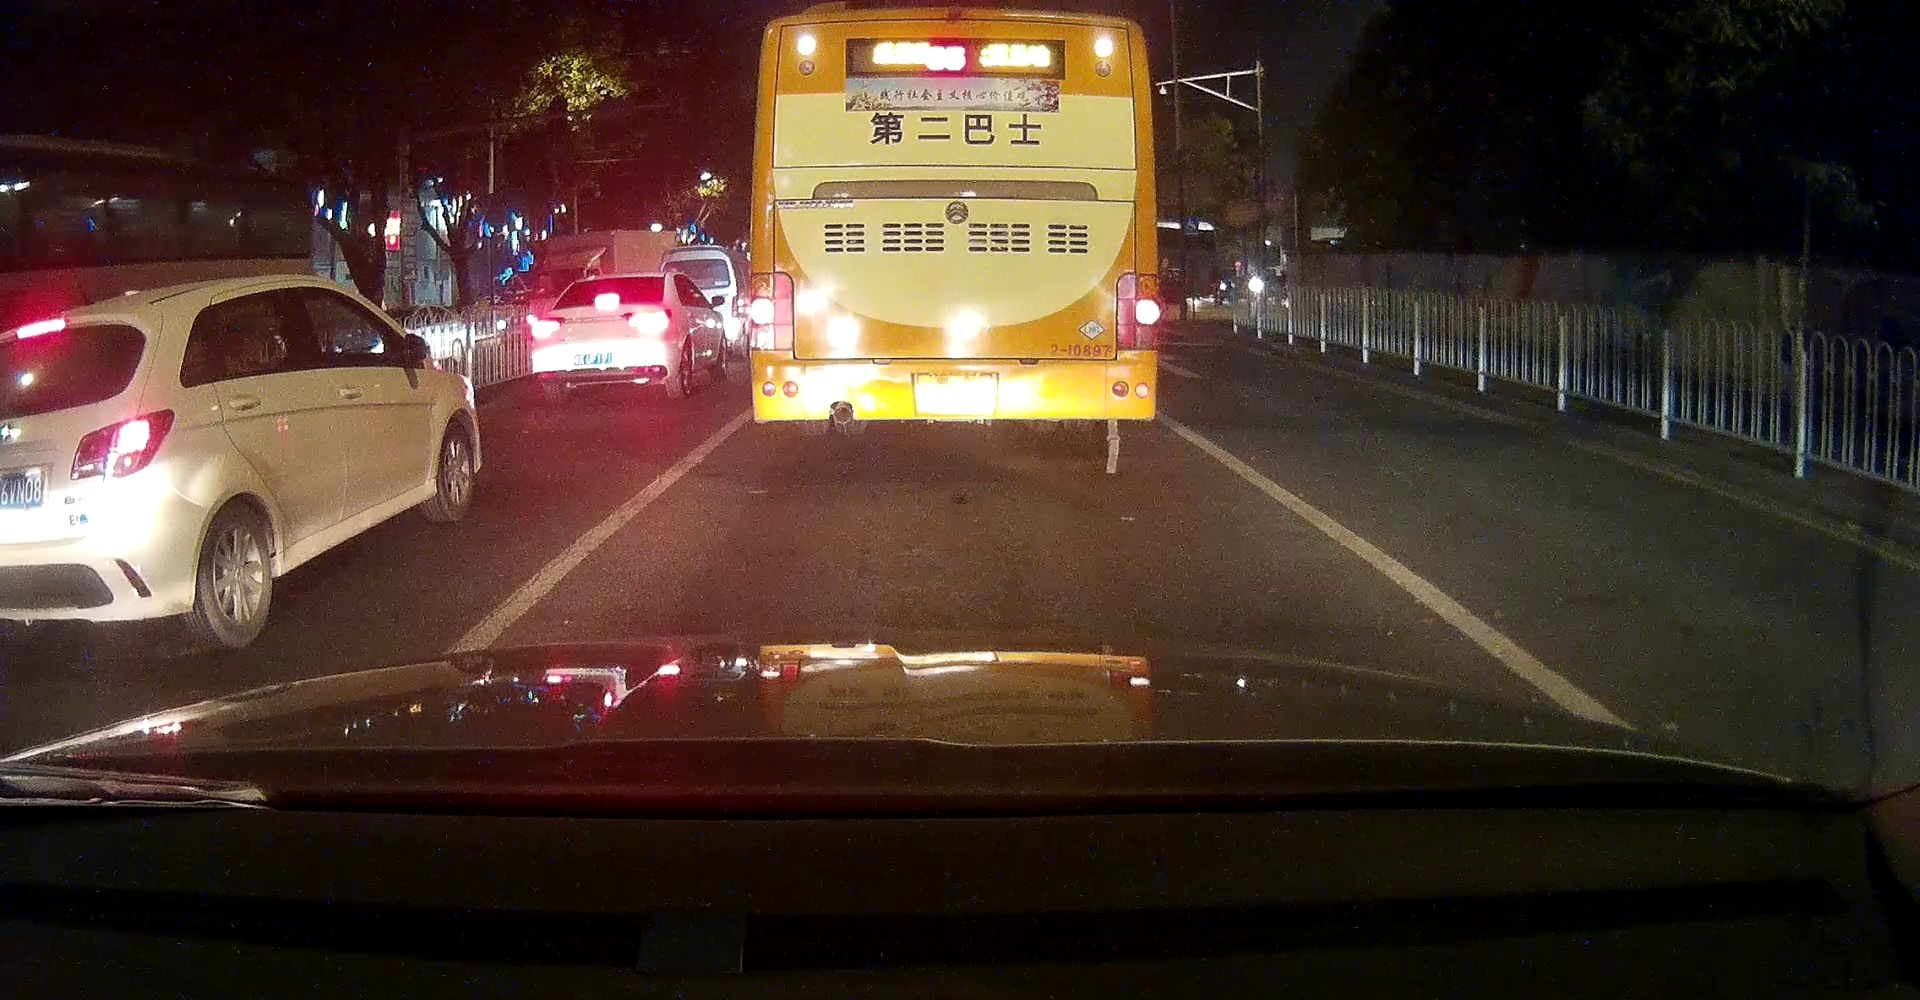L_light: (749, 272, 792, 349), (532, 320, 561, 339)
R_light: (1117, 272, 1159, 350), (629, 311, 669, 332)
T_light: (930, 19, 984, 37), (594, 293, 620, 308)
night-brake: (530, 272, 670, 400)
night-no: (749, 6, 1161, 431)
